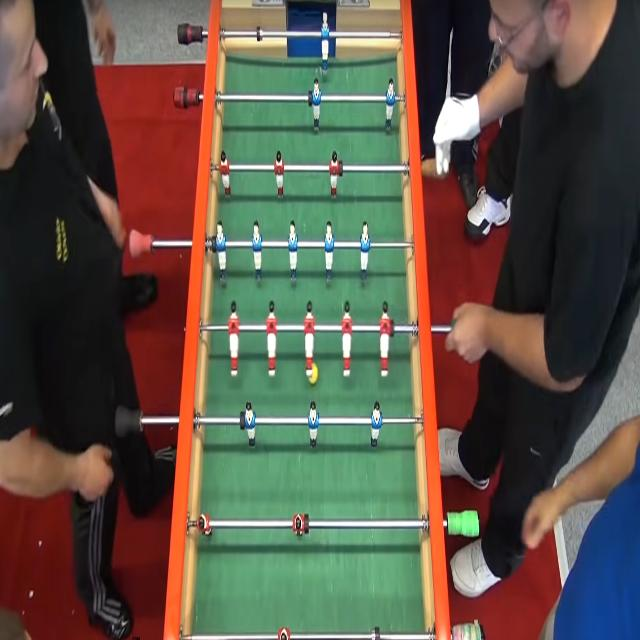ball: (308, 358, 318, 383)
